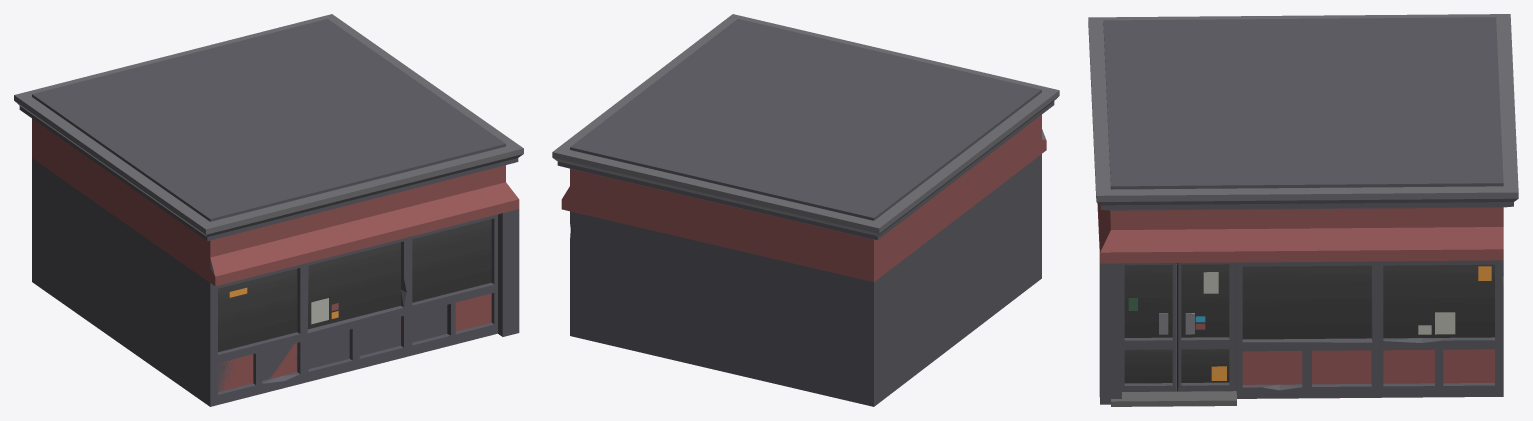
File: Shop 4.fbx
3 views of the same model, side by side, from view 1: azimuth 30°, elevation 25°; view 2: azimuth 150°, elevation 25°; view 3: azimuth 270°, elevation 25° (orthographic). The views are drawn at different scales.
Parts seen in each view (by area): view 1: Shop_4; view 2: Shop_4; view 3: Shop_4.
Boxes of the visible parts, x1,y1,x2,y2 form: Shop_4: [14, 14, 523, 406]; Shop_4: [552, 14, 1059, 406]; Shop_4: [1088, 14, 1518, 406].
Size of the model in its own units: 550 by 300 by 548.
